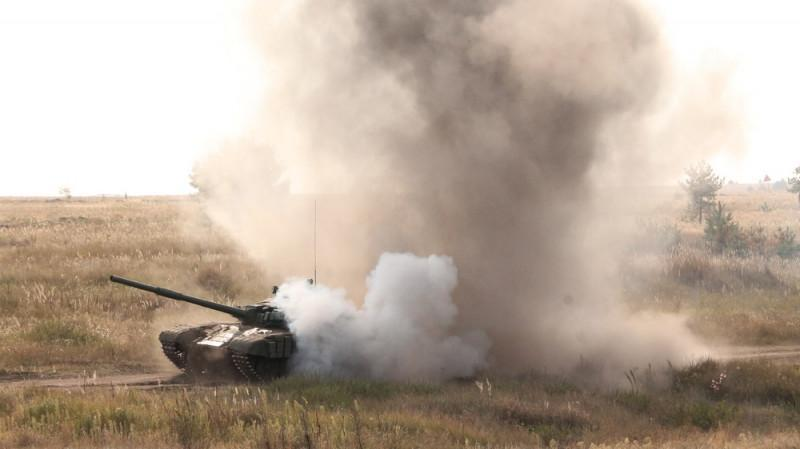tank: (108, 270, 435, 384)
